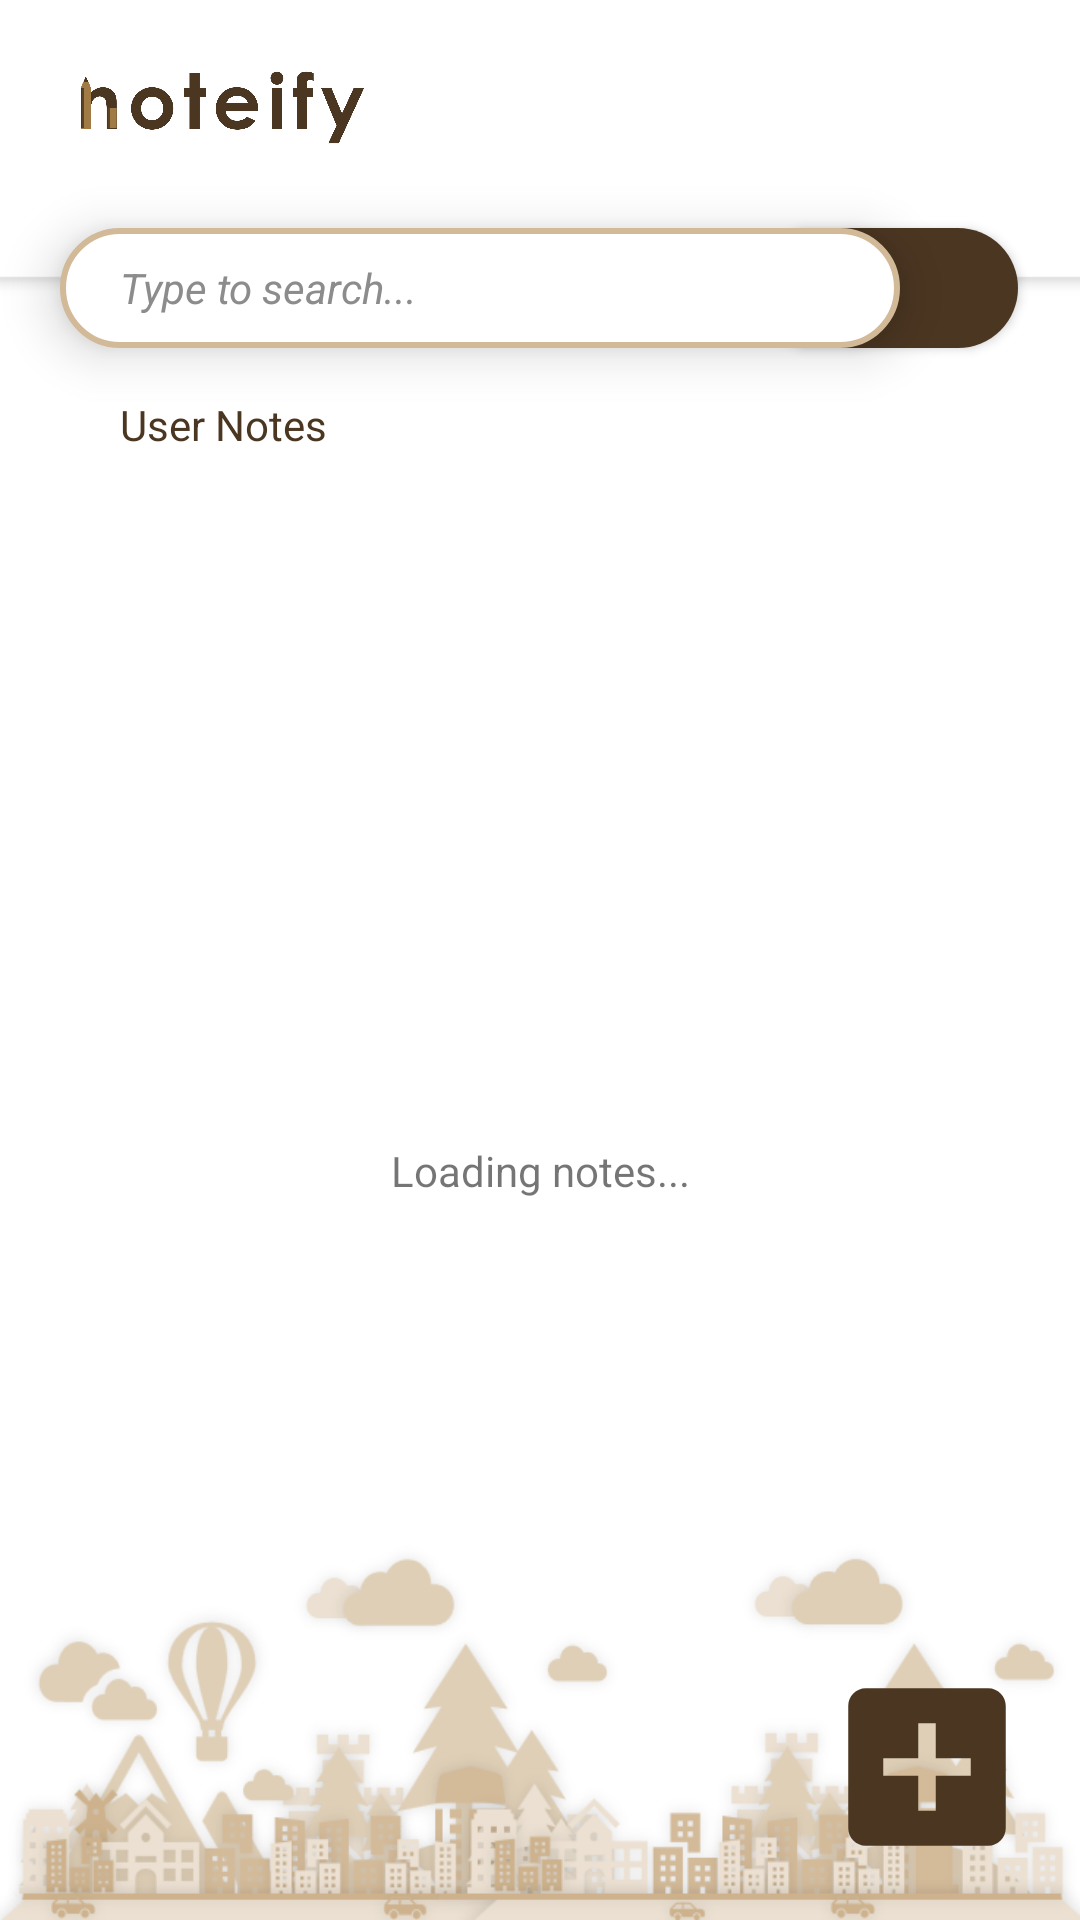

Named icons in this screenshot (1080w x 1920h) and their centers, [x,y]:
add: [927,1767]
